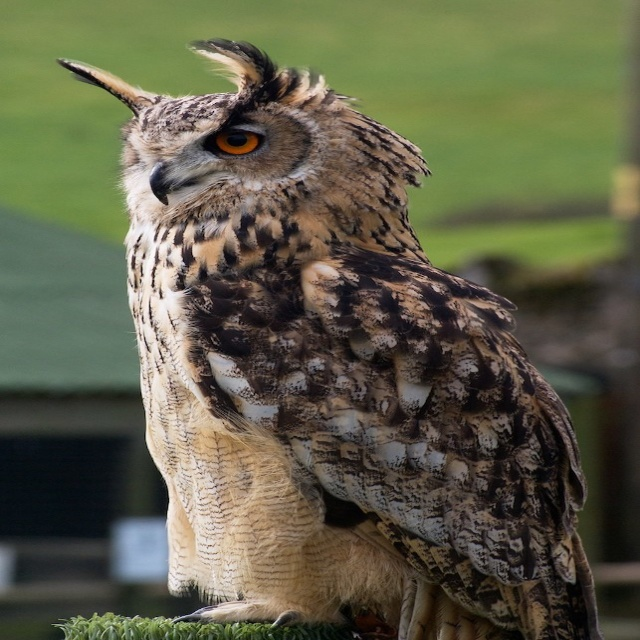Owl: (57, 34, 604, 639)
